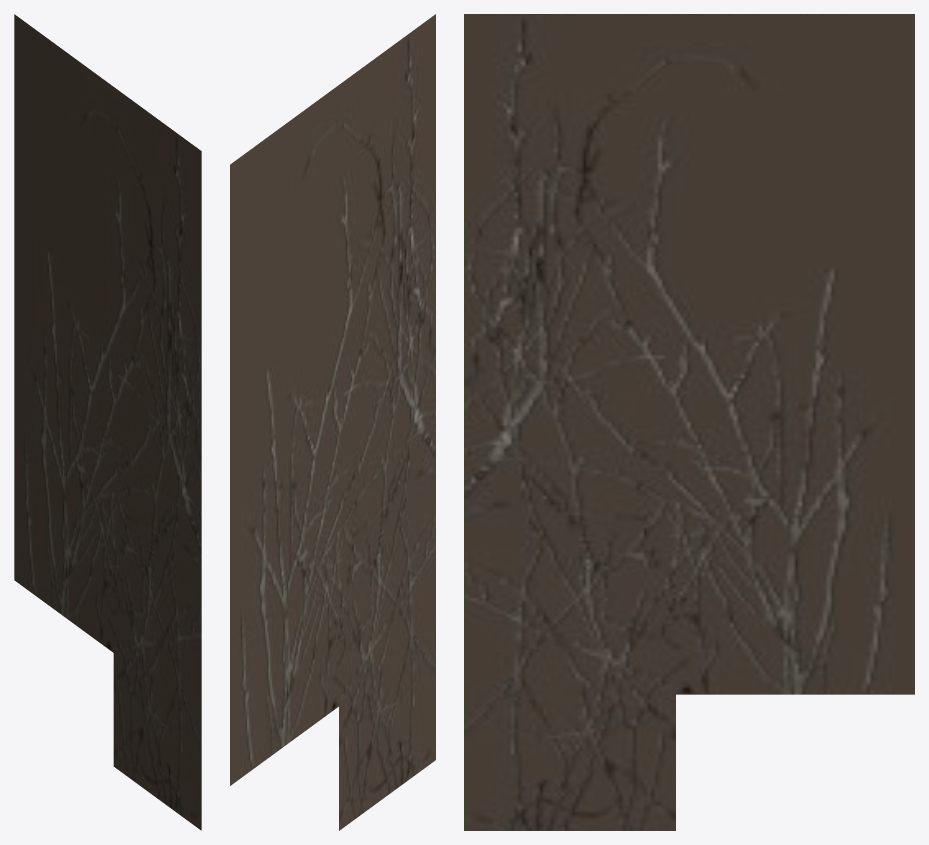
File: prop_vinecorner01.glb
The picture shows the model from 3 angles, left to right: view 1: azimuth 30°, elevation 25°; view 2: azimuth 150°, elevation 25°; view 3: azimuth 270°, elevation 25°; orthographic projection. The views are drawn at different scales.
Size of the model in its own units: 0 by 157 by 78.27.
Materials: 1 (1 with a texture image).
